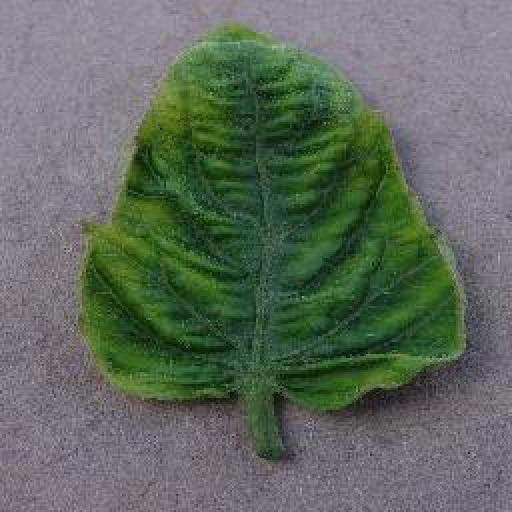Yellow Leaf Curl Virus: (80, 19, 471, 413)
